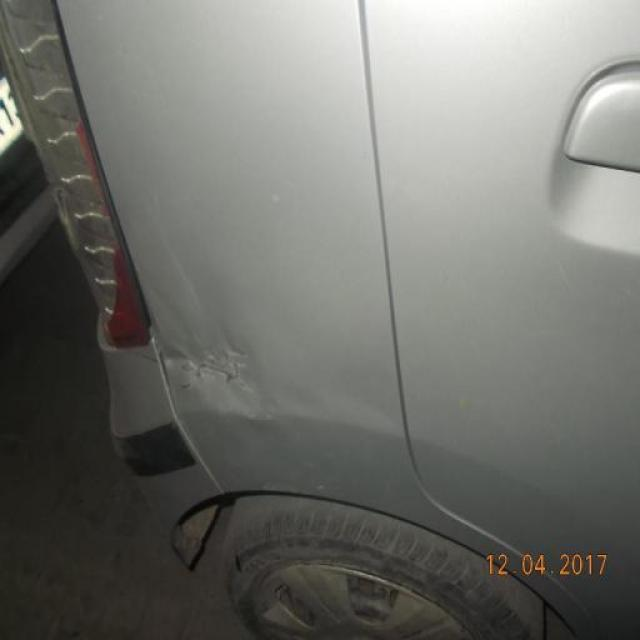dent: (149, 325, 252, 403)
